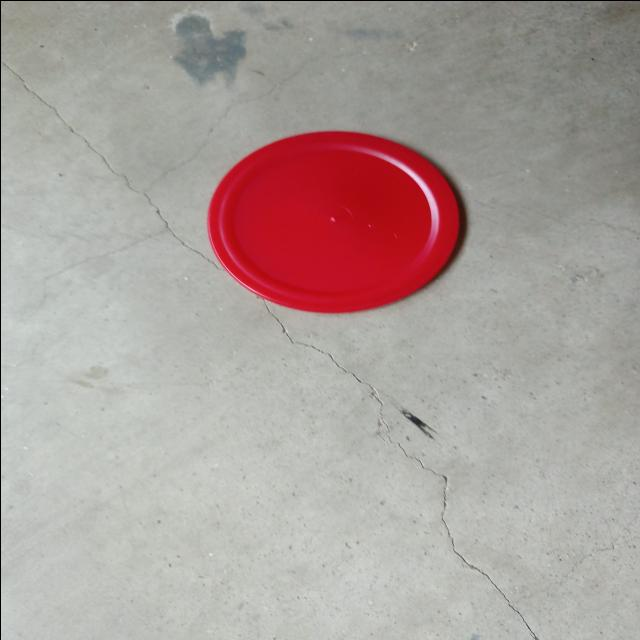chip: (199, 128, 462, 315)
